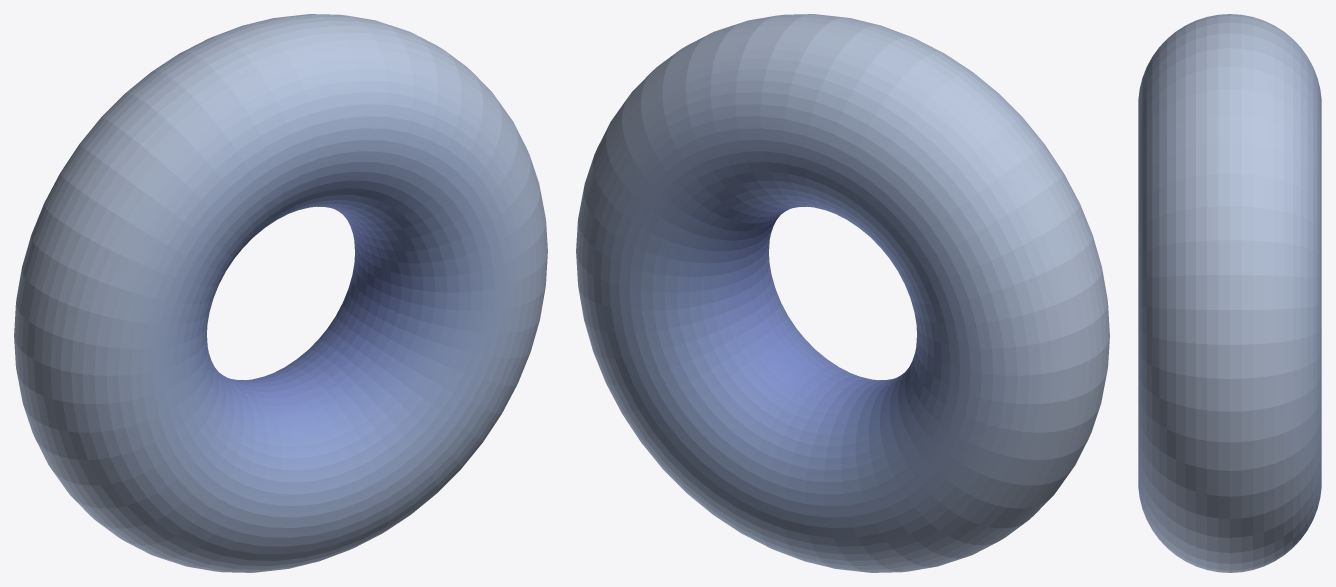
The picture shows the model from 3 angles, left to right: view 1: azimuth 30°, elevation 25°; view 2: azimuth 150°, elevation 25°; view 3: azimuth 270°, elevation 25°; orthographic projection. The views are drawn at different scales.
Visible parts, largest first — view 1: world; view 2: world; view 3: world.
Boxes of the visible parts, x1=… form: world: x1=14, y1=14, x2=547, y2=572; world: x1=576, y1=14, x2=1109, y2=572; world: x1=1138, y1=14, x2=1321, y2=572.
Bounding box in the file's own units: 19.87 × 19.83 × 6.52.
